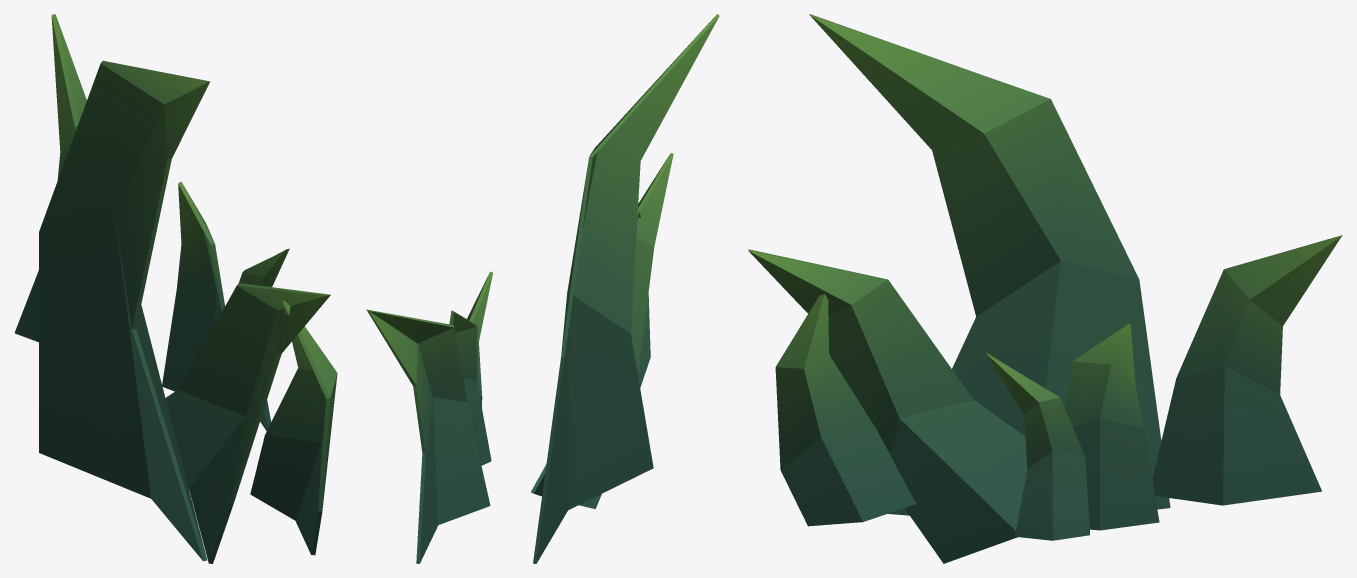
Rendered from Grass-2-1.fbx.
3 renders of one model, left to right at view 1: azimuth 30°, elevation 25°; view 2: azimuth 150°, elevation 25°; view 3: azimuth 270°, elevation 25°, orthographic. The views are drawn at different scales.
Parts seen in each view (by area): view 1: Grass-2-1; view 2: Grass-2-1; view 3: Grass-2-1.
Part boxes in pixels (box(x1,y1,x2,y2)): Grass-2-1: box(14, 14, 337, 563); Grass-2-1: box(366, 14, 719, 563); Grass-2-1: box(748, 14, 1342, 563).
Bounding box in the file's own units: 19.34 × 55.06 × 57.57.
